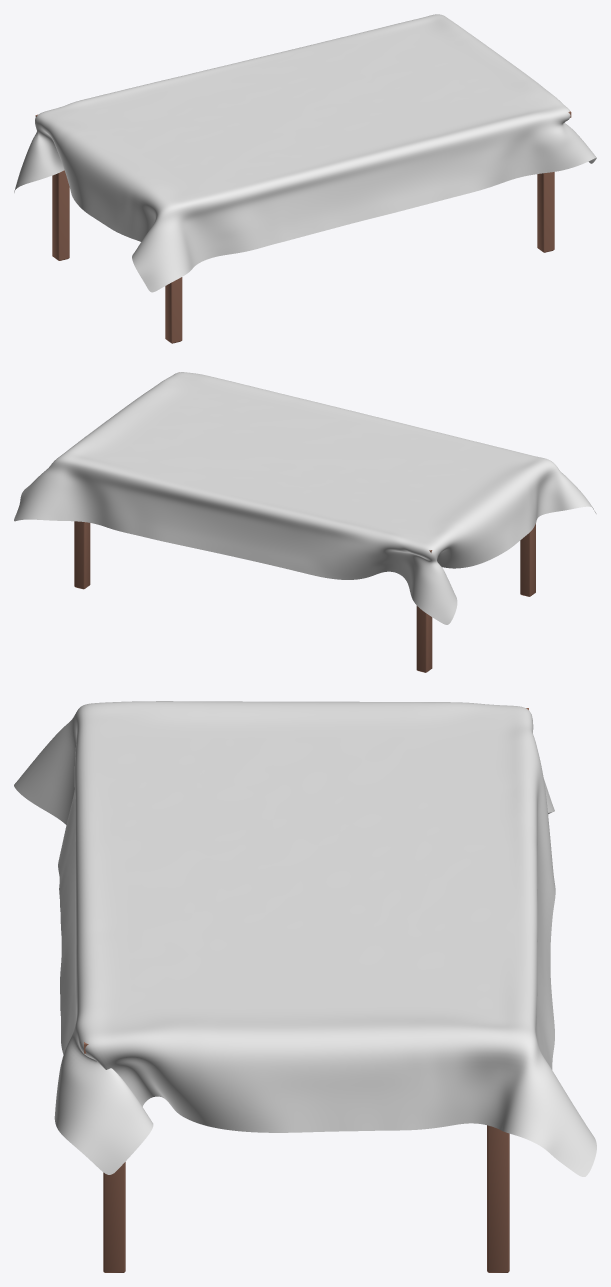
File: mesa.fbx
3 renders of one model, top to bottom at view 1: azimuth 30°, elevation 25°; view 2: azimuth 150°, elevation 25°; view 3: azimuth 270°, elevation 25°, orthographic. The views are drawn at different scales.
Parts seen in each view (by area): view 1: Mantel, Mesa; view 2: Mantel, Mesa; view 3: Mantel, Mesa.
Boxes of the visible parts, box(x1,y1,x2,y2) form: Mantel: box(14, 14, 596, 292); Mesa: box(35, 111, 571, 343); Mantel: box(14, 372, 596, 624); Mesa: box(74, 521, 535, 672); Mantel: box(14, 701, 596, 1176); Mesa: box(84, 708, 528, 1272).
Size of the model in its own units: 423 by 123 by 262.
